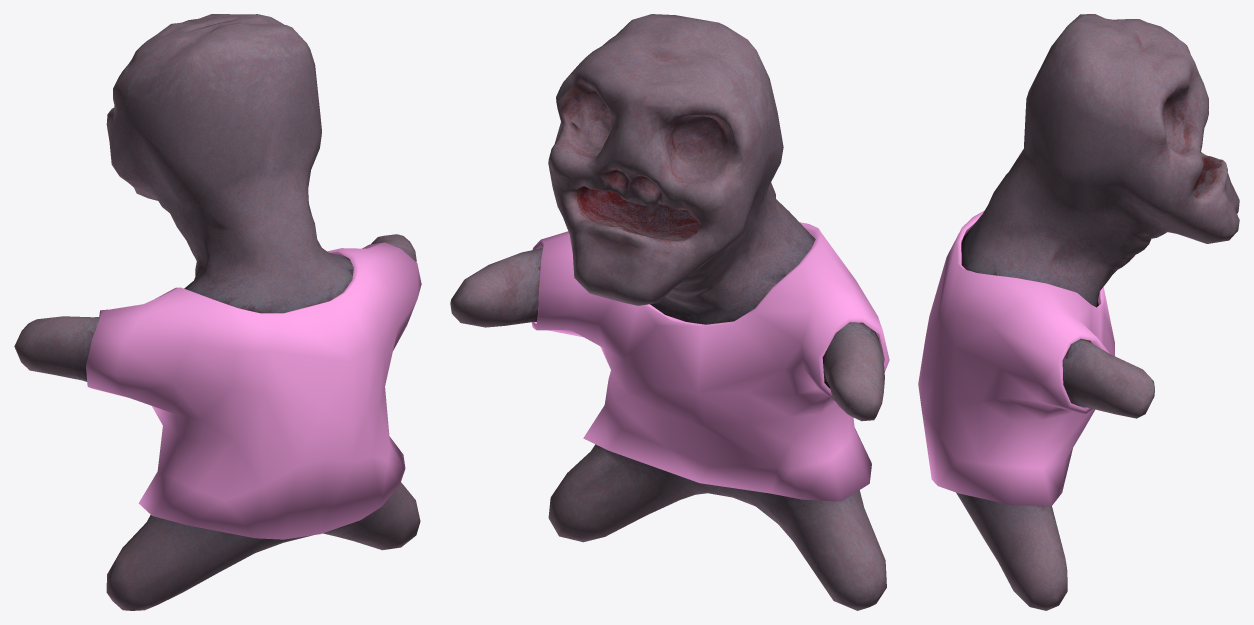
Rendered from Gramby.obj.
The picture shows the model from 3 angles, left to right: view 1: azimuth 30°, elevation 25°; view 2: azimuth 150°, elevation 25°; view 3: azimuth 270°, elevation 25°; orthographic projection. The views are drawn at different scales.
Parts seen in each view (by area): view 1: Gramby; view 2: Gramby; view 3: Gramby.
Boxes of the visible parts, x1,y1,x2,y2 form: Gramby: (14, 14, 421, 610); Gramby: (450, 14, 889, 610); Gramby: (918, 14, 1239, 610).
Size of the model in its own units: 1.79 by 2.29 by 1.29.
Materials: 1 (1 with a texture image).
